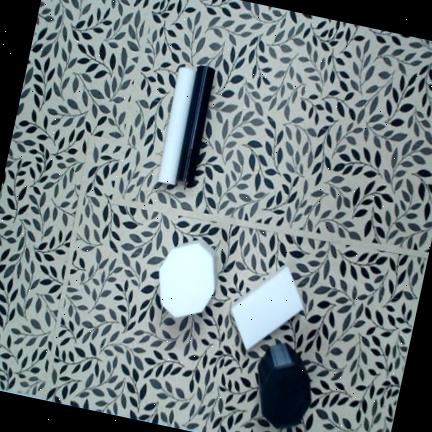Cilindro: (157, 67, 196, 185), (177, 66, 216, 182)
Paralelepipedo: (232, 265, 304, 351)
Prisma_hexagonal: (159, 240, 218, 318), (258, 344, 311, 429)
